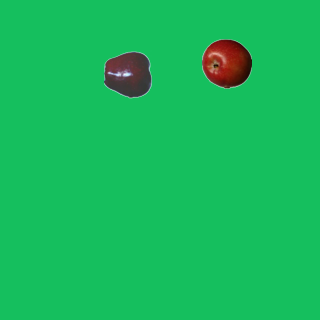Apple Braeburn: (201, 38, 251, 88)
Apple Red Delicious: (103, 49, 153, 99)
